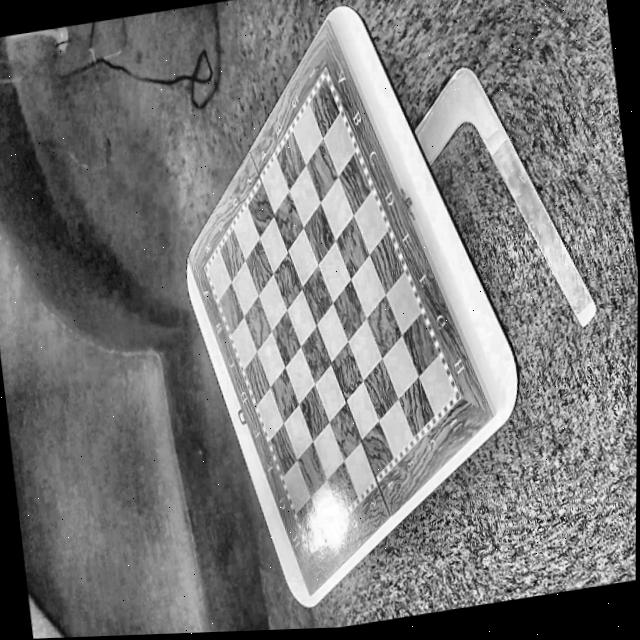chessboard: (206, 76, 454, 548)
